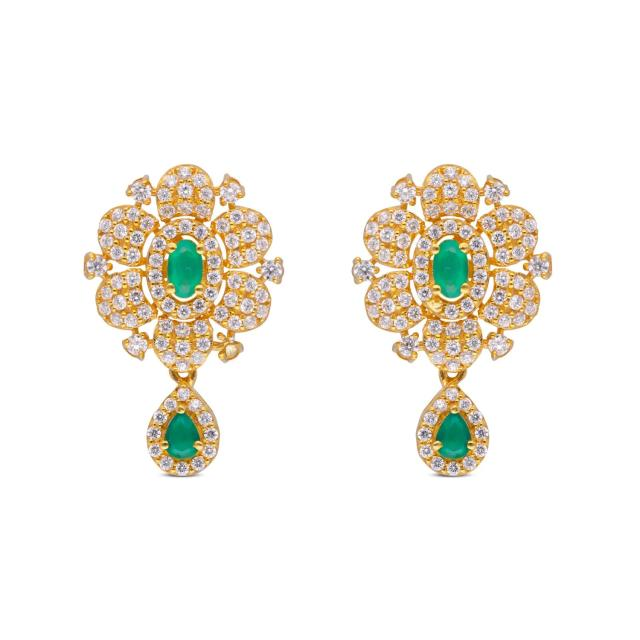missing gem: (223, 340, 243, 361), (430, 299, 443, 311)
